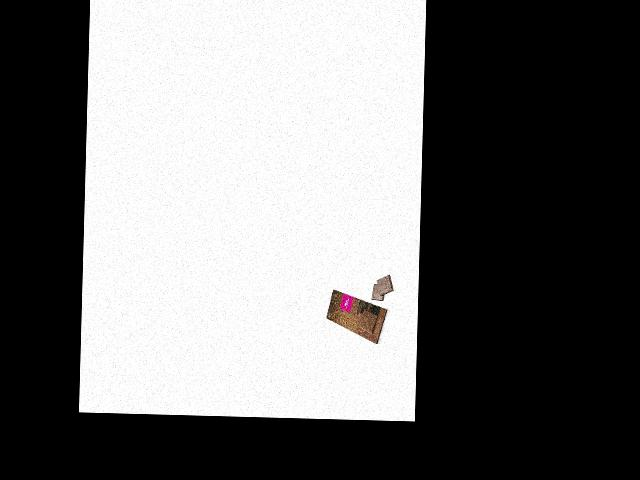chocolate: (324, 288, 389, 344)
